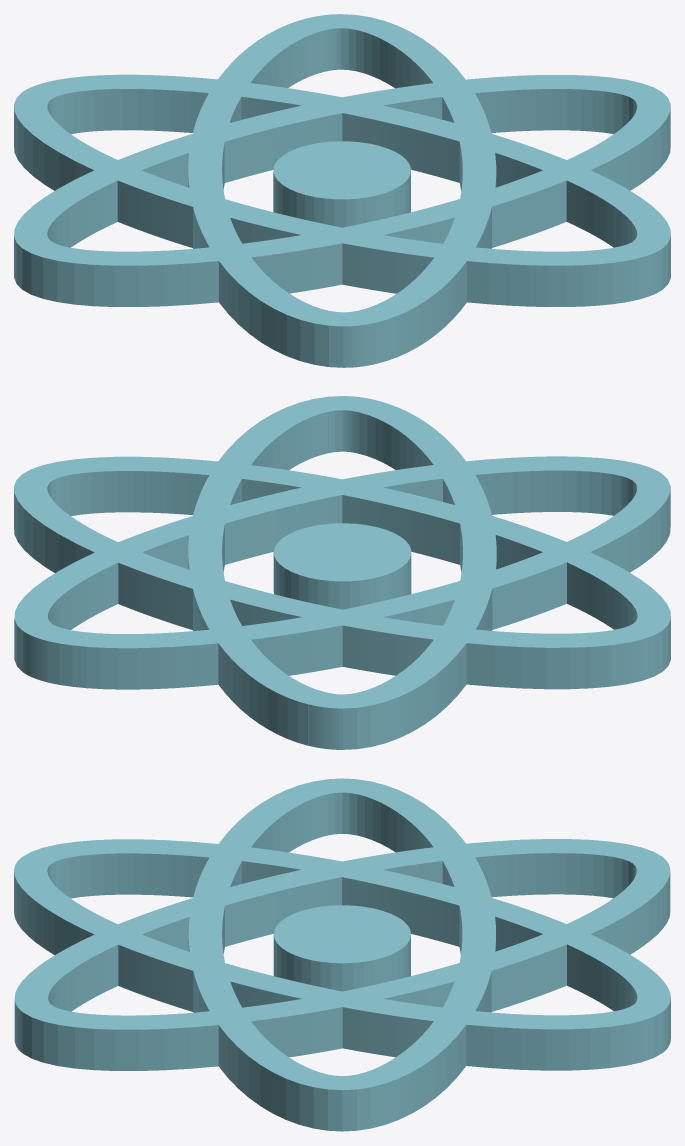
3 renders of one model, top to bottom at view 1: azimuth 30°, elevation 25°; view 2: azimuth 150°, elevation 25°; view 3: azimuth 270°, elevation 25°, orthographic.
Parts seen in each view (by area): view 1: Mesh_Mesh_head_geo.001_lambert2SG.001; view 2: Mesh_Mesh_head_geo.001_lambert2SG.001; view 3: Mesh_Mesh_head_geo.001_lambert2SG.001.
Part boxes in pixels (bbox=[...]): Mesh_Mesh_head_geo.001_lambert2SG.001: bbox=[14, 14, 670, 367]; Mesh_Mesh_head_geo.001_lambert2SG.001: bbox=[14, 396, 670, 749]; Mesh_Mesh_head_geo.001_lambert2SG.001: bbox=[14, 778, 670, 1131].
Bounding box in the file's own units: 162 × 10 × 144.
